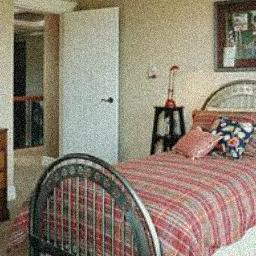Puerta: (65, 15, 117, 155)
